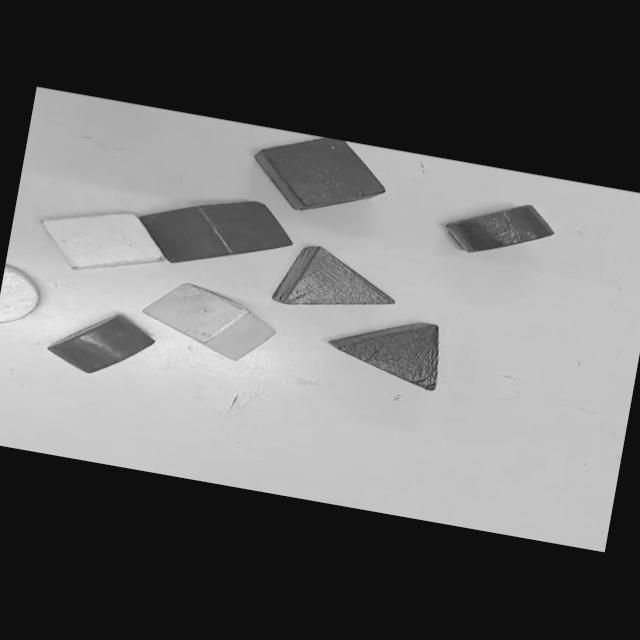bcircle: (446, 205, 554, 252)
bcube: (257, 138, 385, 209)
btriangle: (330, 323, 439, 390)
rcircle: (48, 315, 155, 373)
rcube: (140, 201, 292, 262)
rtriangle: (272, 246, 395, 305)
ycircle: (0, 265, 40, 323)
ycube: (41, 214, 163, 269)
ytriangle: (144, 284, 275, 361)
